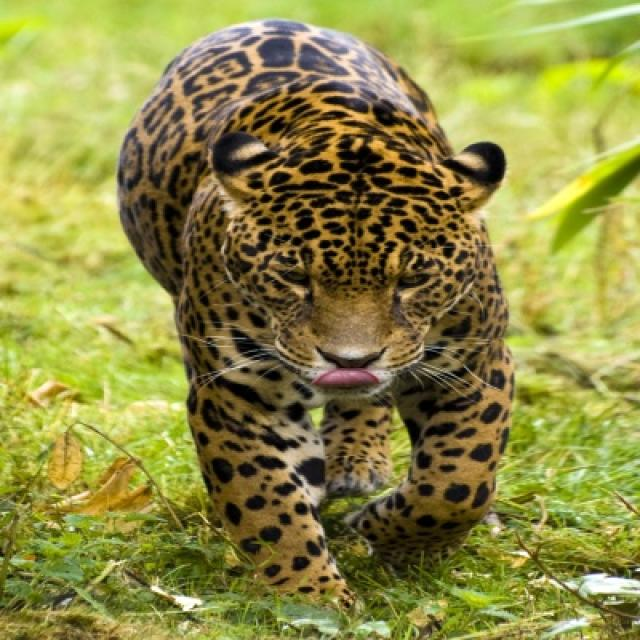not_pig: (114, 16, 515, 616)
